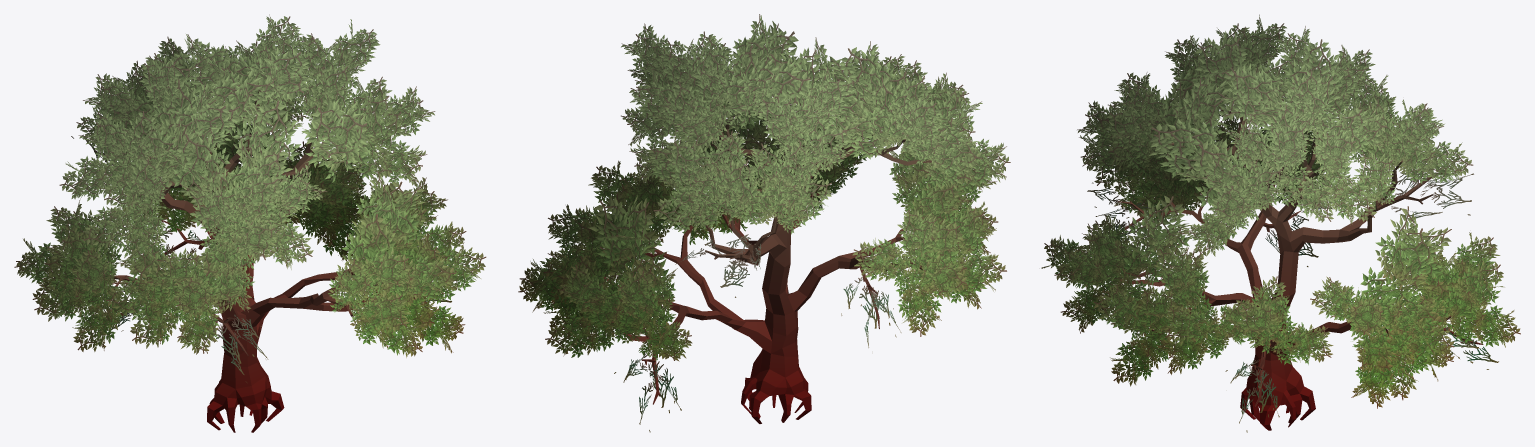
The picture shows the model from 3 angles, left to right: view 1: azimuth 30°, elevation 25°; view 2: azimuth 150°, elevation 25°; view 3: azimuth 270°, elevation 25°; orthographic projection. The views are drawn at different scales.
Visible parts, largest first — view 1: SM_Tree_Generic_Giant_01; view 2: SM_Tree_Generic_Giant_01; view 3: SM_Tree_Generic_Giant_01.
Part boxes in pixels (bbox=[...]): SM_Tree_Generic_Giant_01: bbox=[14, 14, 486, 432]; SM_Tree_Generic_Giant_01: bbox=[518, 14, 1010, 432]; SM_Tree_Generic_Giant_01: bbox=[1041, 14, 1520, 432].
Bounding box in the file's own units: 12.6 × 11.19 × 13.12.
3 materials, 3 textured.
